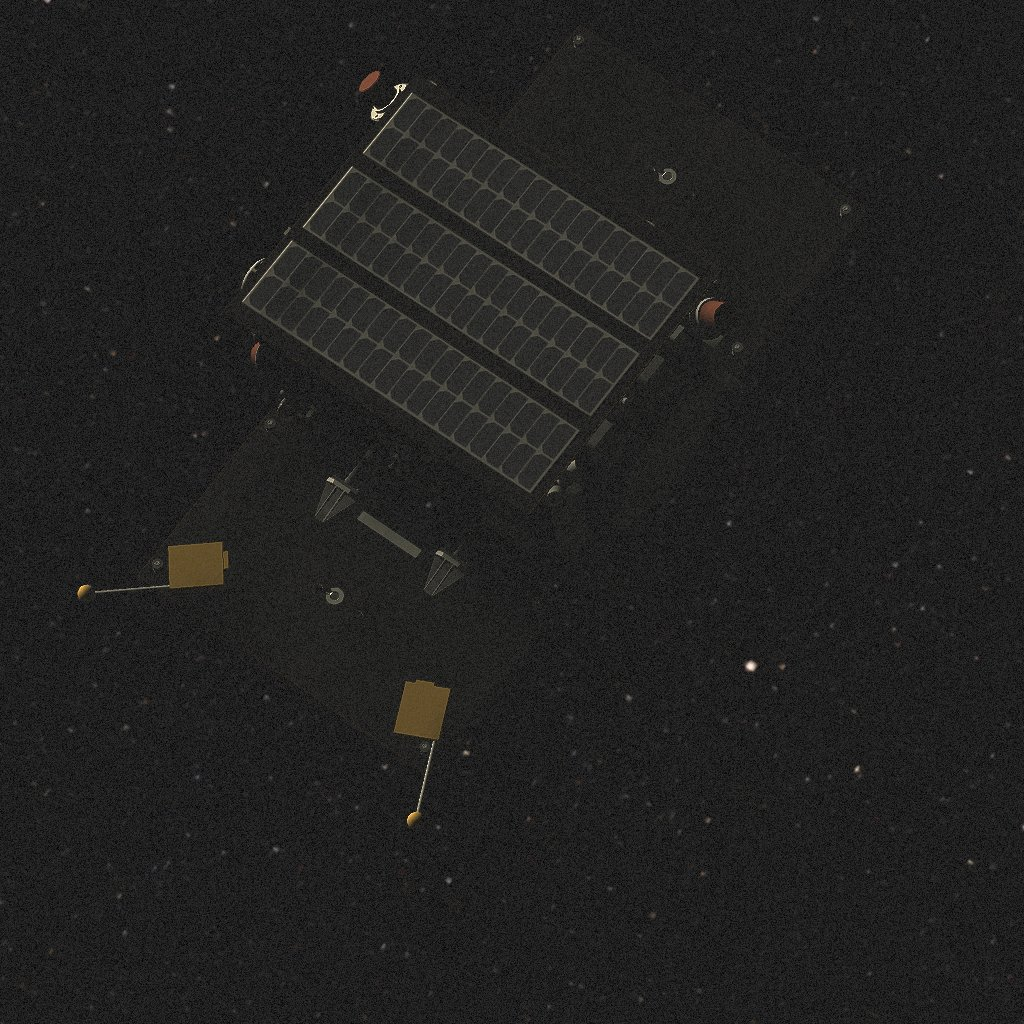proba_2: (78, 25, 868, 830)
